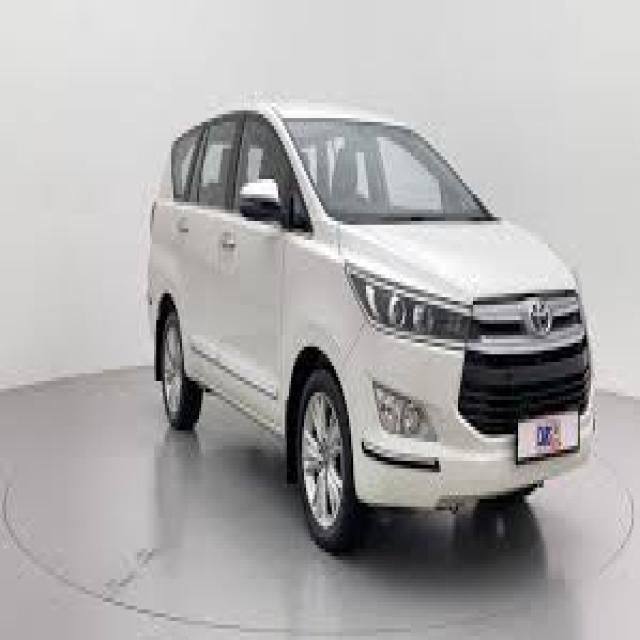light_vehicle: (146, 99, 596, 550)
